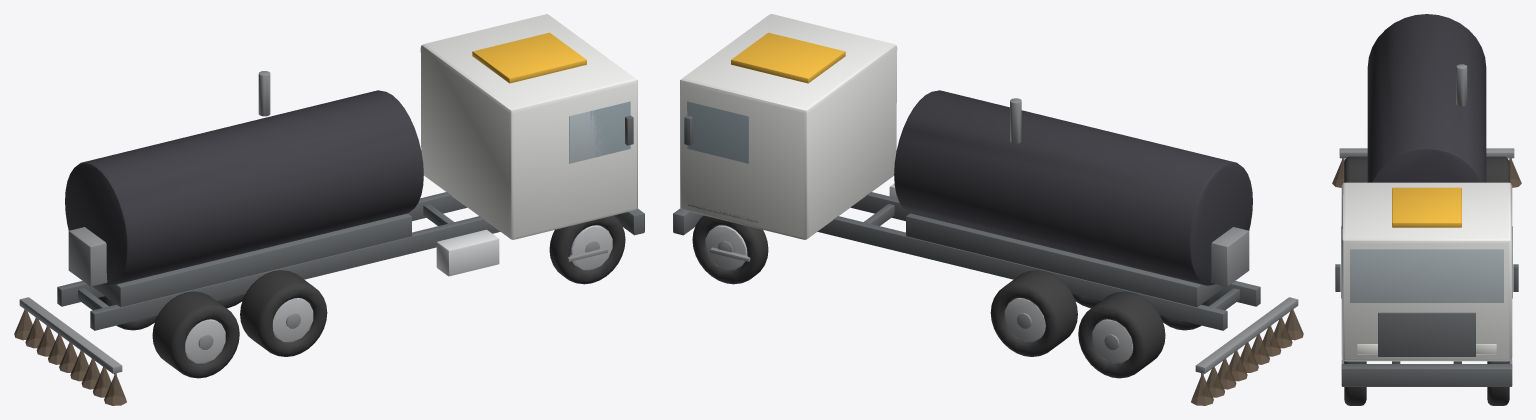
The model's file is EQP-ASF-002_lod1.glb.
The picture shows the model from 3 angles, left to right: view 1: azimuth 30°, elevation 25°; view 2: azimuth 150°, elevation 25°; view 3: azimuth 270°, elevation 25°; orthographic projection. The views are drawn at different scales.
Parts seen in each view (by area): view 1: EQP-ASF-002_tanque, EQP-ASF-002_cab, EQP-ASF-002_berco, EQP-ASF-002_chassi_e, EQP-ASF-002_roda4_pneu, EQP-ASF-002_roda2_pneu, EQP-ASF-002_luzes, EQP-ASF-002_janela-1, EQP-ASF-002_roda0_pneu, EQP-ASF-002_tanque_comb, EQP-ASF-002_queimador, EQP-ASF-002_barra (+5 smaller); view 2: EQP-ASF-002_tanque, EQP-ASF-002_cab, EQP-ASF-002_berco, EQP-ASF-002_chassi_d, EQP-ASF-002_roda5_pneu, EQP-ASF-002_roda3_pneu, EQP-ASF-002_luzes, EQP-ASF-002_janela1, EQP-ASF-002_roda1_pneu, EQP-ASF-002_queimador, EQP-ASF-002_barra, EQP-ASF-002_chassi_e (+3 smaller); view 3: EQP-ASF-002_cab, EQP-ASF-002_tanque, EQP-ASF-002_parabrisa, EQP-ASF-002_grade, EQP-ASF-002_parachoque, EQP-ASF-002_luzes, EQP-ASF-002_roda4_pneu, EQP-ASF-002_roda5_pneu, EQP-ASF-002_barra, EQP-ASF-002_chamine, EQP-ASF-002_roda0_pneu, EQP-ASF-002_roda1_pneu (+4 smaller).
Boxes of the visible parts, x1=… form: EQP-ASF-002_tanque: x1=65, y1=90, x2=423, y2=285; EQP-ASF-002_cab: x1=420, y1=14, x2=637, y2=239; EQP-ASF-002_berco: x1=92, y1=213, x2=411, y2=307; EQP-ASF-002_chassi_e: x1=90, y1=216, x2=500, y2=330; EQP-ASF-002_roda4_pneu: x1=152, y1=291, x2=239, y2=378; EQP-ASF-002_roda2_pneu: x1=240, y1=270, x2=327, y2=356; EQP-ASF-002_luzes: x1=472, y1=32, x2=586, y2=83; EQP-ASF-002_janela-1: x1=569, y1=101, x2=630, y2=163; EQP-ASF-002_roda0_pneu: x1=549, y1=215, x2=625, y2=284; EQP-ASF-002_tanque_comb: x1=436, y1=229, x2=499, y2=276; EQP-ASF-002_queimador: x1=68, y1=227, x2=107, y2=286; EQP-ASF-002_barra: x1=19, y1=297, x2=122, y2=373; EQP-ASF-002_tanque: x1=894, y1=90, x2=1252, y2=285; EQP-ASF-002_cab: x1=680, y1=14, x2=897, y2=239; EQP-ASF-002_berco: x1=906, y1=213, x2=1225, y2=307; EQP-ASF-002_chassi_d: x1=817, y1=216, x2=1227, y2=330; EQP-ASF-002_roda5_pneu: x1=1078, y1=291, x2=1165, y2=378; EQP-ASF-002_roda3_pneu: x1=990, y1=270, x2=1077, y2=356; EQP-ASF-002_luzes: x1=731, y1=32, x2=845, y2=83; EQP-ASF-002_janela1: x1=687, y1=101, x2=748, y2=163; EQP-ASF-002_roda1_pneu: x1=692, y1=215, x2=768, y2=284; EQP-ASF-002_queimador: x1=1211, y1=227, x2=1249, y2=286; EQP-ASF-002_barra: x1=1195, y1=297, x2=1298, y2=373; EQP-ASF-002_chassi_e: x1=850, y1=192, x2=1260, y2=306; EQP-ASF-002_cab: x1=1341, y1=182, x2=1512, y2=361; EQP-ASF-002_tanque: x1=1367, y1=14, x2=1486, y2=182; EQP-ASF-002_parabrisa: x1=1350, y1=249, x2=1503, y2=302; EQP-ASF-002_grade: x1=1378, y1=312, x2=1475, y2=356; EQP-ASF-002_parachoque: x1=1341, y1=364, x2=1512, y2=386; EQP-ASF-002_luzes: x1=1392, y1=187, x2=1461, y2=227; EQP-ASF-002_roda4_pneu: x1=1344, y1=156, x2=1367, y2=182; EQP-ASF-002_roda5_pneu: x1=1486, y1=156, x2=1509, y2=182; EQP-ASF-002_barra: x1=1339, y1=148, x2=1514, y2=158; EQP-ASF-002_chamine: x1=1456, y1=64, x2=1467, y2=106; EQP-ASF-002_roda0_pneu: x1=1344, y1=361, x2=1366, y2=405; EQP-ASF-002_roda1_pneu: x1=1487, y1=361, x2=1509, y2=405.
Size of the model in its own units: 8.32 by 3.4 by 2.72.
